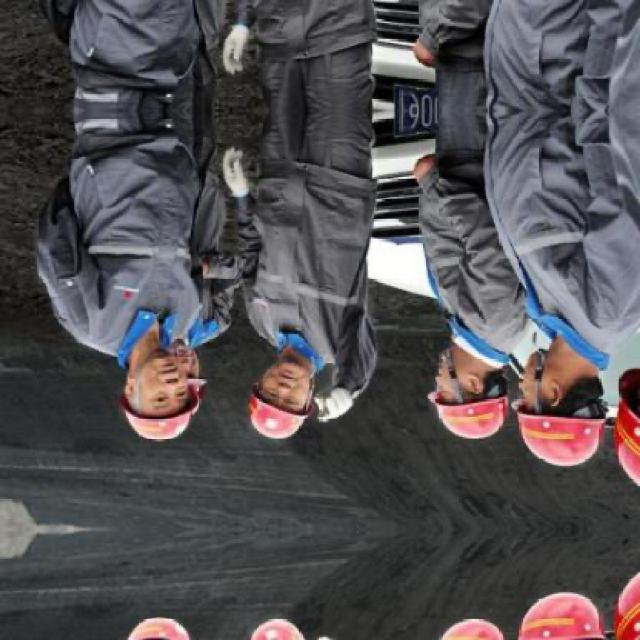con casco: (490, 275, 612, 485), (416, 294, 524, 464), (108, 285, 199, 457), (246, 308, 343, 449)
